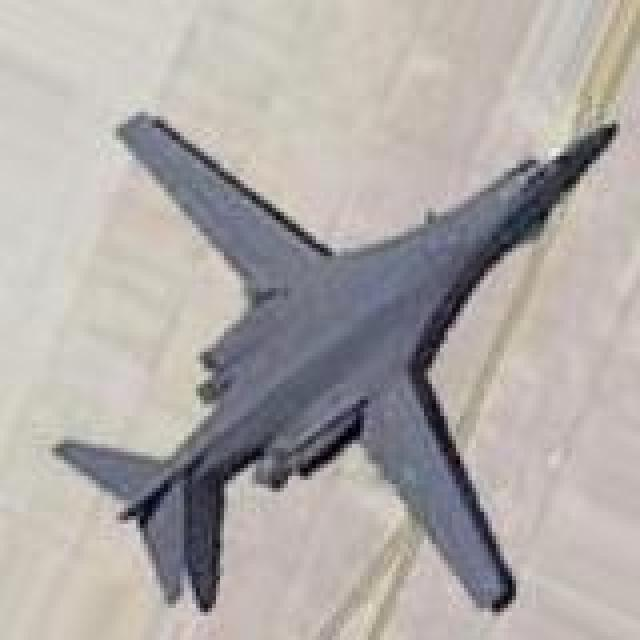B-1_TopDown: (48, 104, 620, 616)
